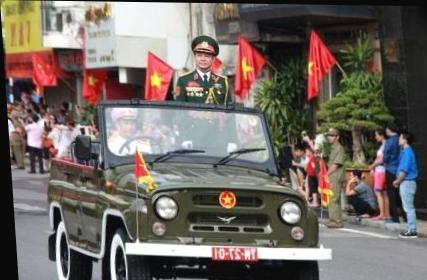License_Plate: (208, 247, 260, 263)
